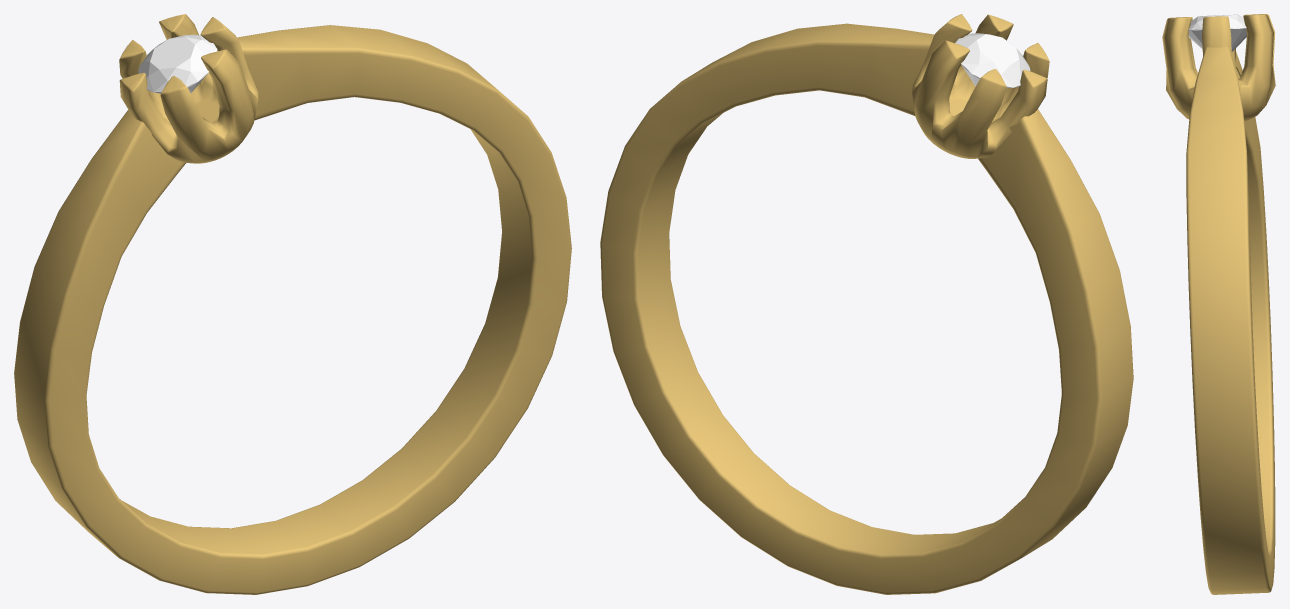
File: ring-v3.glb
3 views of the same model, side by side, from view 1: azimuth 30°, elevation 25°; view 2: azimuth 150°, elevation 25°; view 3: azimuth 270°, elevation 25° (orthographic). The views are drawn at different scales.
Parts seen in each view (by area): view 1: ring, head, diamond; view 2: ring, head, diamond; view 3: ring, head, diamond.
Part boxes in pixels (x1,y1,x2,y2): ring: (14,25,571,594); head: (119,14,258,163); diamond: (138,34,217,93); ring: (600,23,1133,594); head: (912,14,1049,158); diamond: (955,33,1030,88); ring: (1186,46,1275,594); head: (1162,14,1275,121); diamond: (1188,14,1246,51).
Size of the model in its own units: 2.7 by 2.9 by 0.5736.
